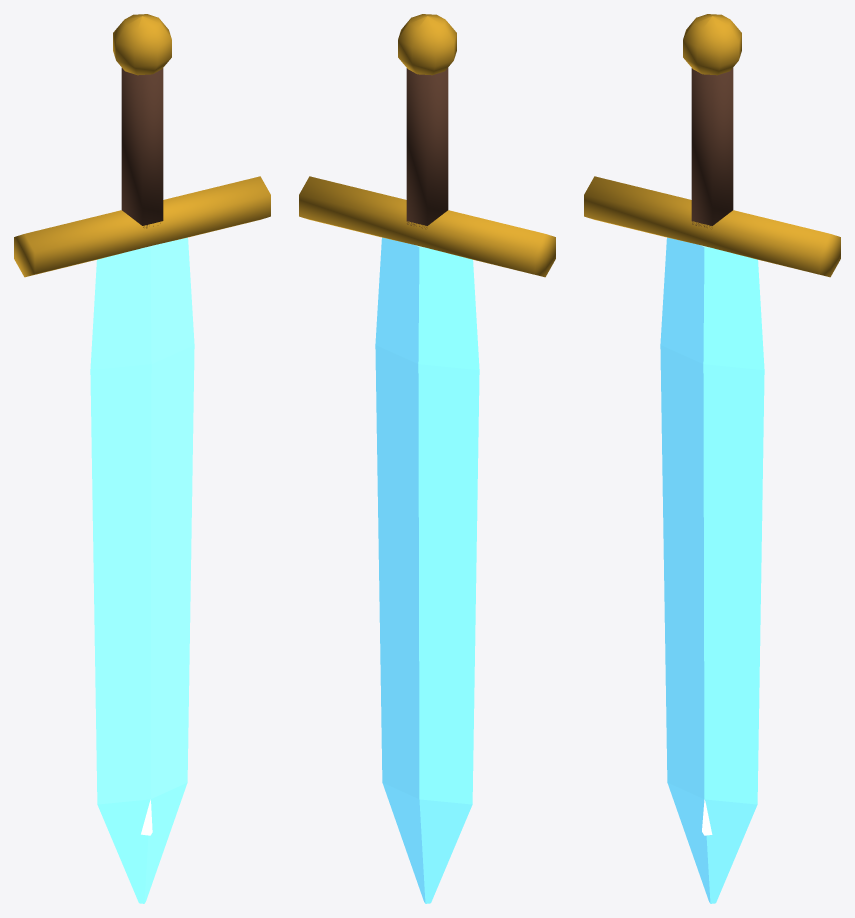
The model's file is hand_sword.glb.
3 views of the same model, side by side, from view 1: azimuth 30°, elevation 25°; view 2: azimuth 150°, elevation 25°; view 3: azimuth 330°, elevation 25° (orthographic).
Parts seen in each view (by area): view 1: hand_sword_q; view 2: hand_sword_q; view 3: hand_sword_q.
Part boxes in pixels (bbox=[...]): hand_sword_q: bbox=[14, 14, 270, 903]; hand_sword_q: bbox=[299, 14, 555, 903]; hand_sword_q: bbox=[584, 14, 840, 903].
Bounding box in the file's own units: 0.68 × 2.44 × 0.1521.
